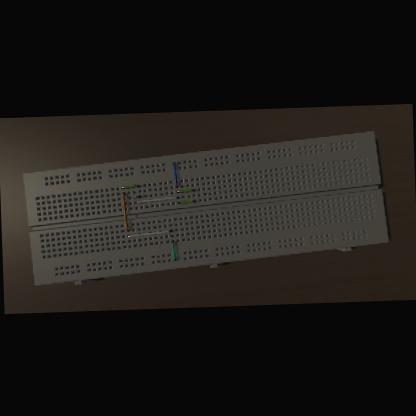breadboard: (21, 129, 389, 285)
wire: (127, 228, 172, 236), (134, 196, 179, 203), (121, 192, 128, 230), (172, 162, 178, 186), (170, 240, 175, 260), (178, 198, 196, 202), (121, 184, 139, 188), (177, 188, 194, 192), (132, 194, 140, 196)
